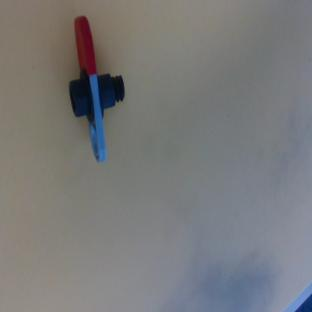part_1_good: (64, 13, 129, 163)
